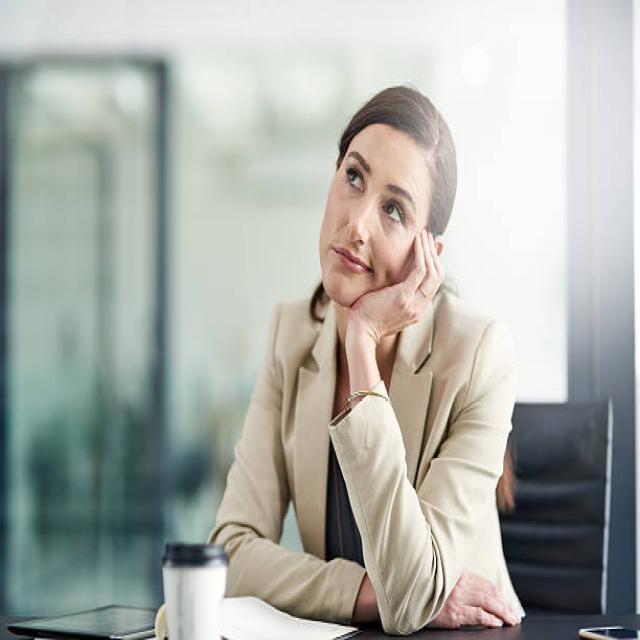Distracted: (318, 123, 426, 304)
